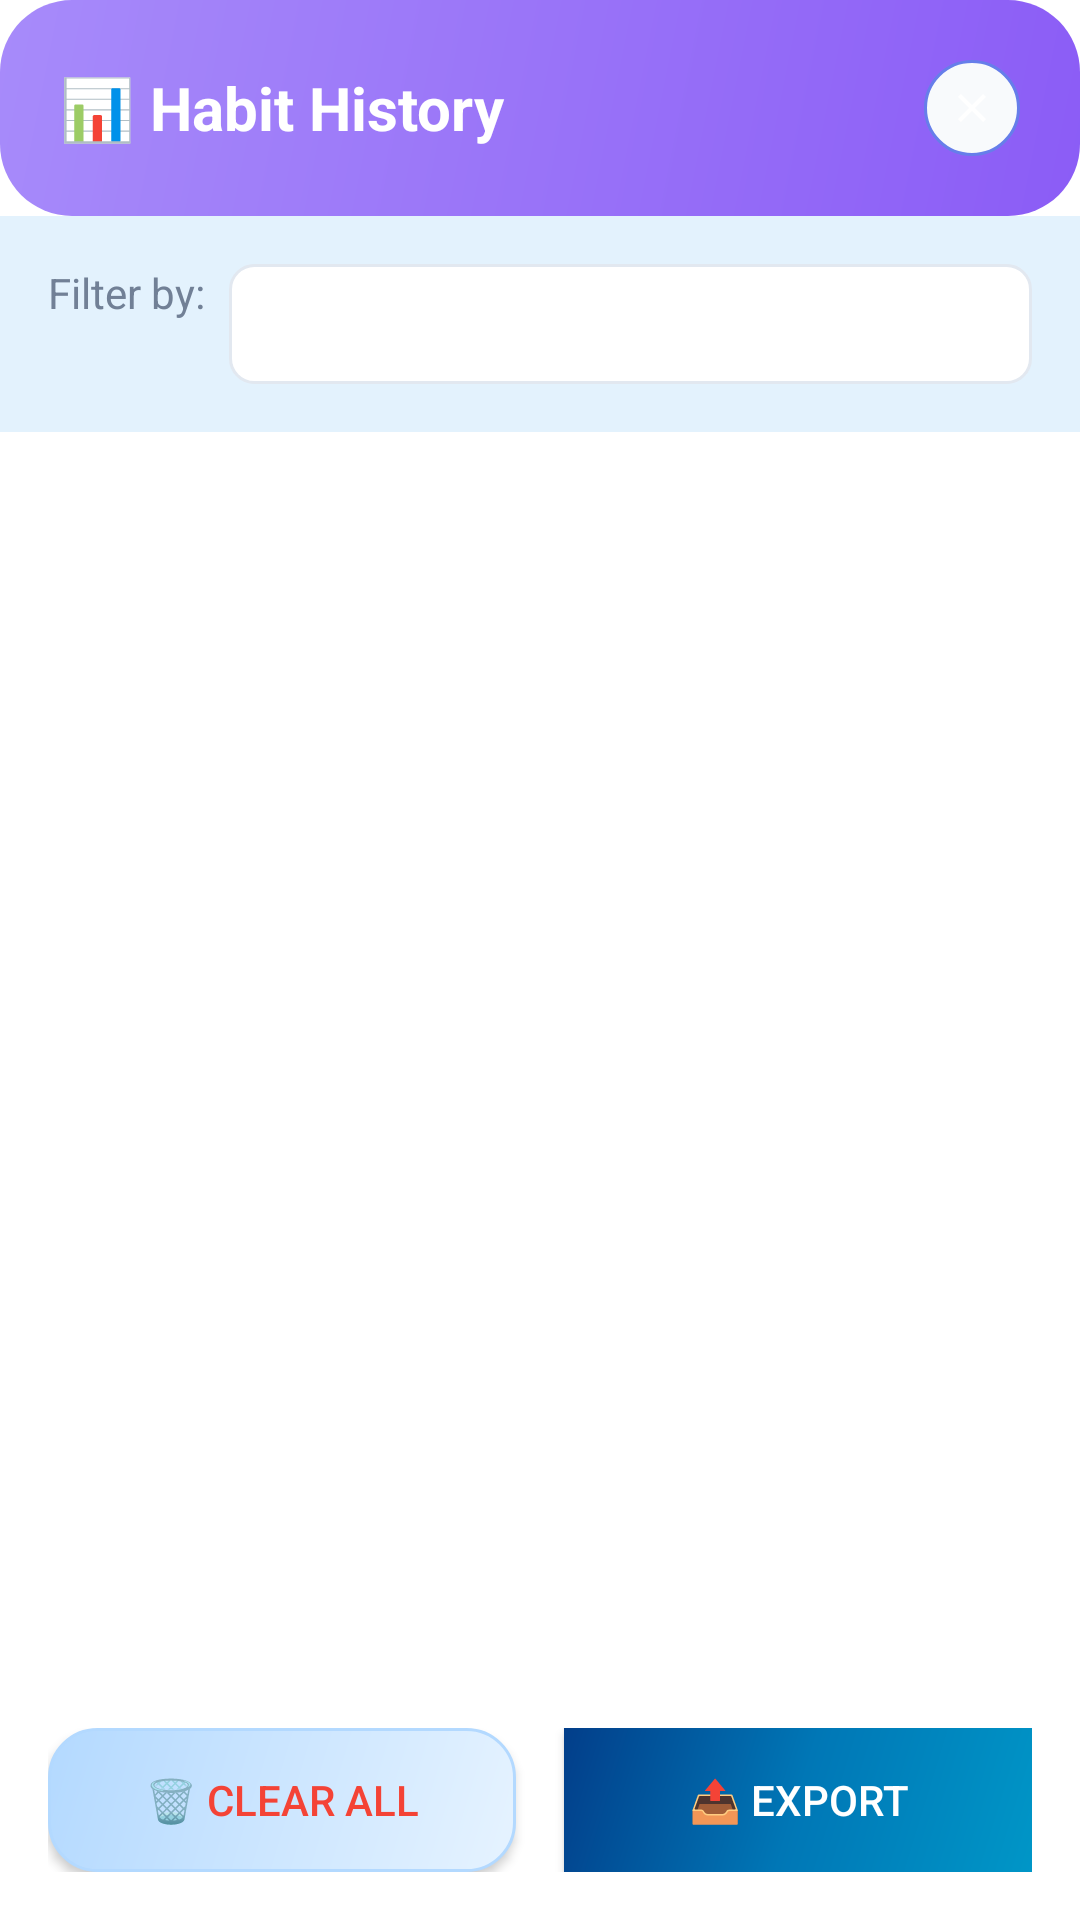

Point at icon controls on the screen. Image size 1080w x 1920h, points as (x,y).
Close: (972,108)
